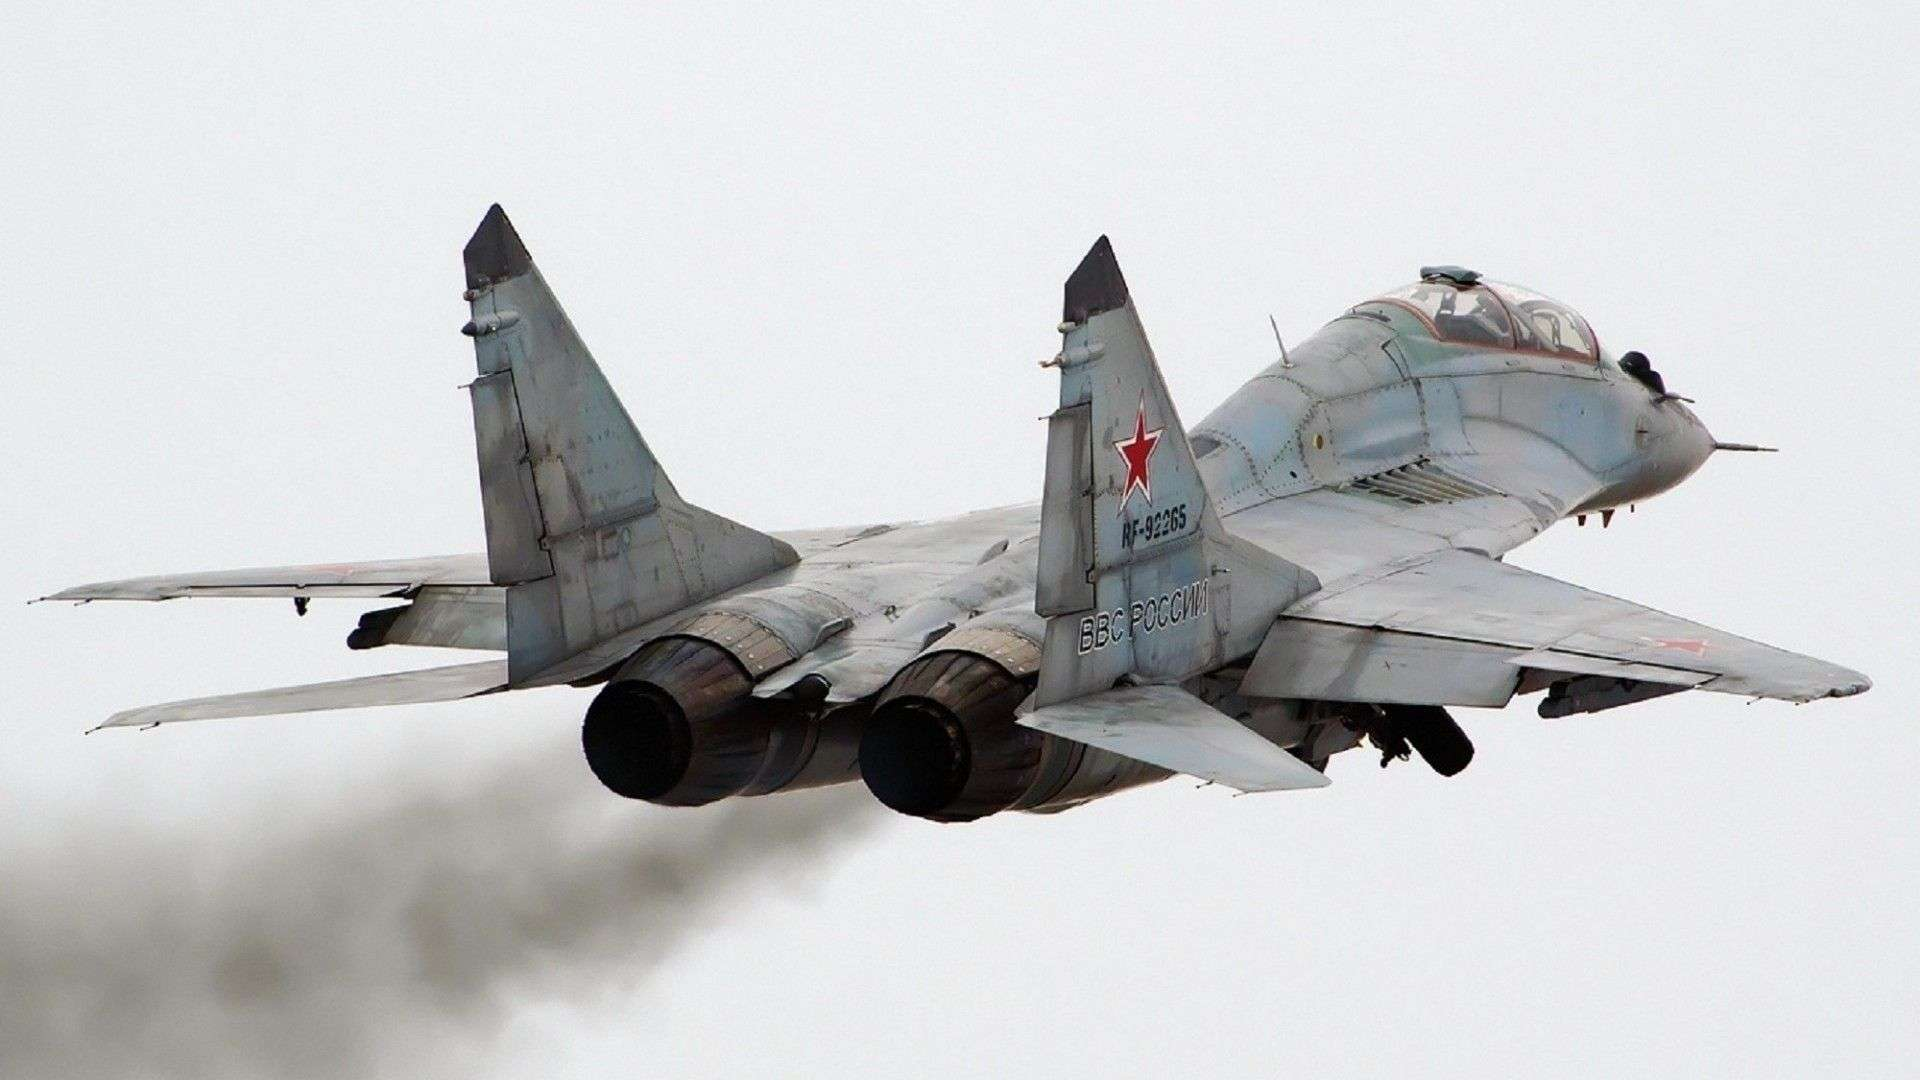Mig-29: (95, 55, 1898, 828)
